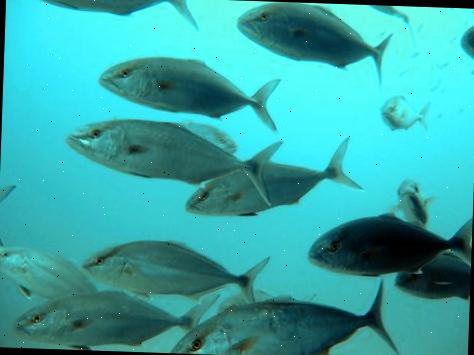fish: (66, 116, 284, 206), (169, 272, 404, 355), (186, 129, 364, 220), (10, 286, 221, 354), (234, 1, 395, 90), (98, 54, 282, 128), (79, 236, 272, 302), (308, 210, 473, 280), (0, 244, 99, 301), (23, 0, 199, 31), (396, 250, 472, 300), (386, 176, 437, 230), (368, 4, 416, 44), (380, 95, 430, 132), (459, 19, 474, 61)
